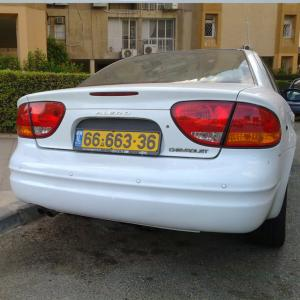Vehicle-registration-plate: (78, 119, 163, 160)
